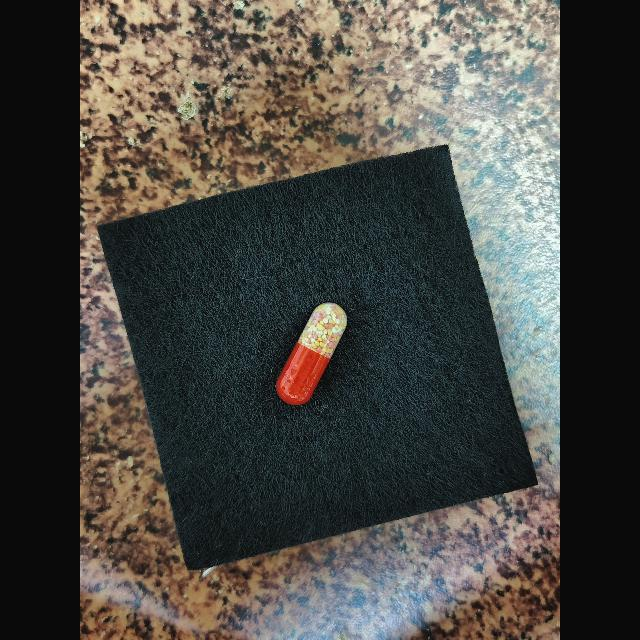Intact Capsule: (276, 302, 347, 405)
